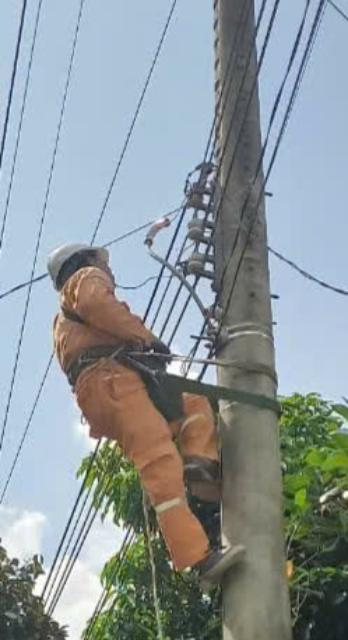harness: (55, 345, 199, 392)
helmet: (39, 241, 121, 283)
shoes: (172, 455, 232, 509), (192, 543, 251, 582)
